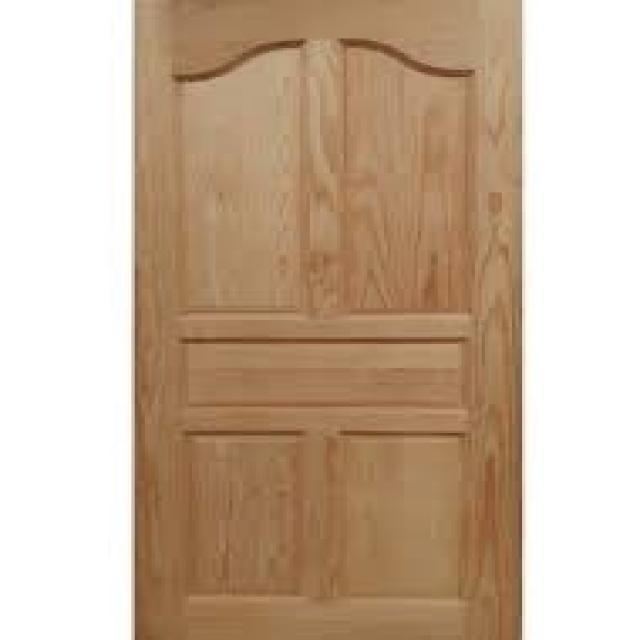door: (132, 0, 526, 640)
